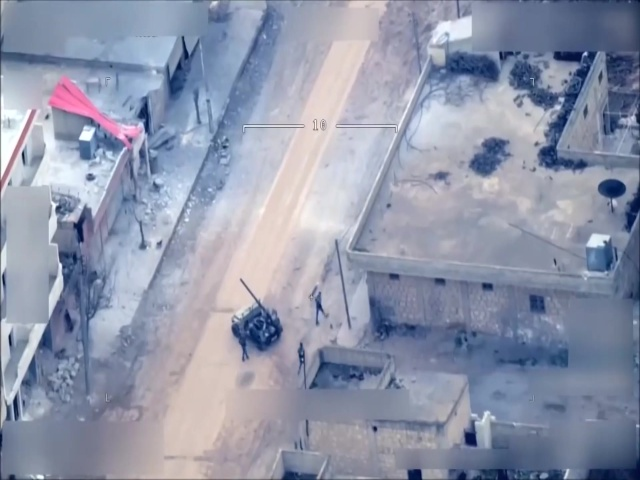person: (310, 290, 331, 326), (236, 331, 253, 362)
vehicle: (230, 299, 285, 351)
